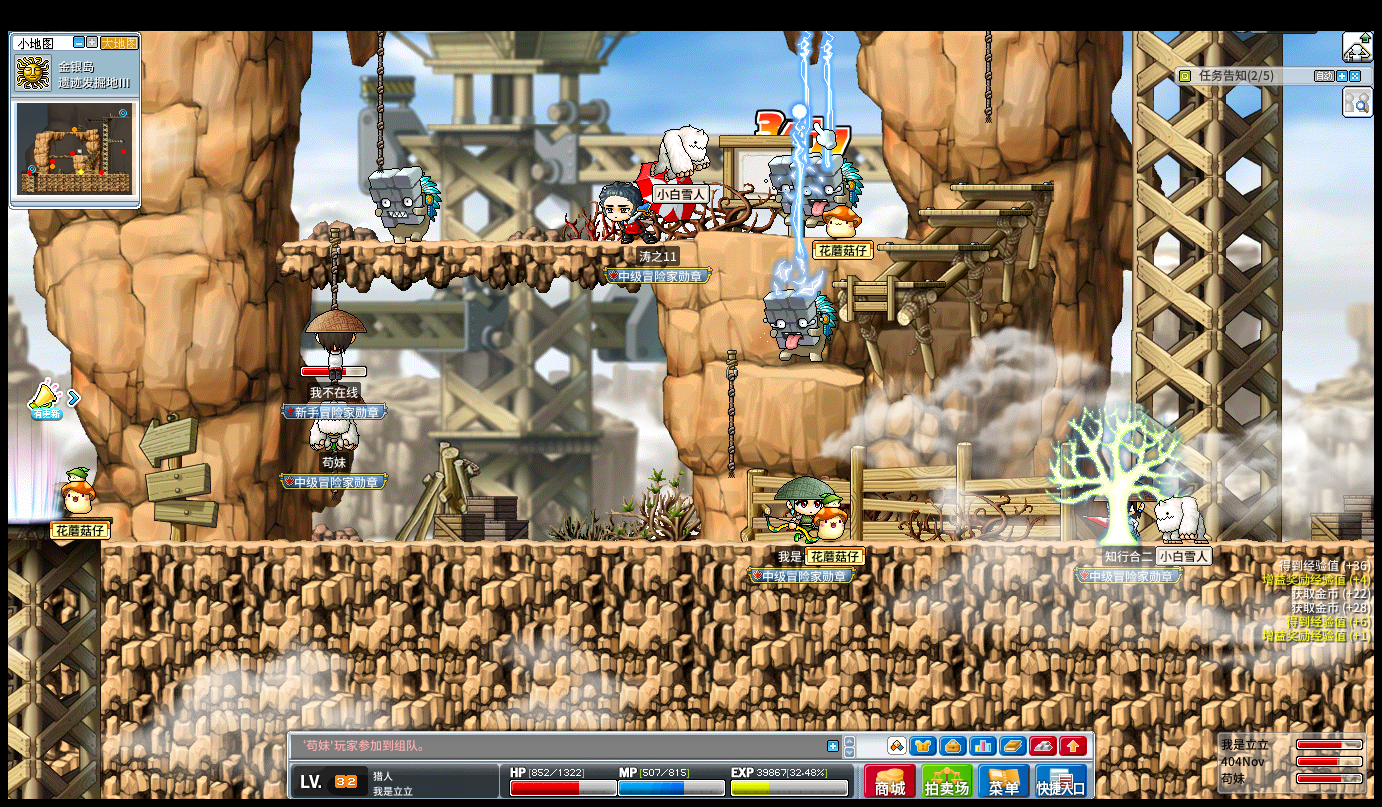floor: (101, 539, 1373, 550), (279, 238, 662, 249), (746, 363, 864, 387), (788, 234, 919, 242), (7, 516, 111, 526), (918, 209, 1032, 216), (877, 244, 991, 251), (832, 280, 946, 287), (950, 184, 1054, 191)
monster: (368, 167, 442, 244), (763, 289, 837, 362), (790, 156, 865, 227), (767, 154, 792, 227)
rope: (726, 350, 737, 479), (375, 31, 384, 173), (984, 30, 992, 124), (330, 228, 339, 310)
